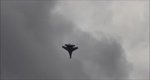maybay_muctieu: (62, 42, 78, 59)
